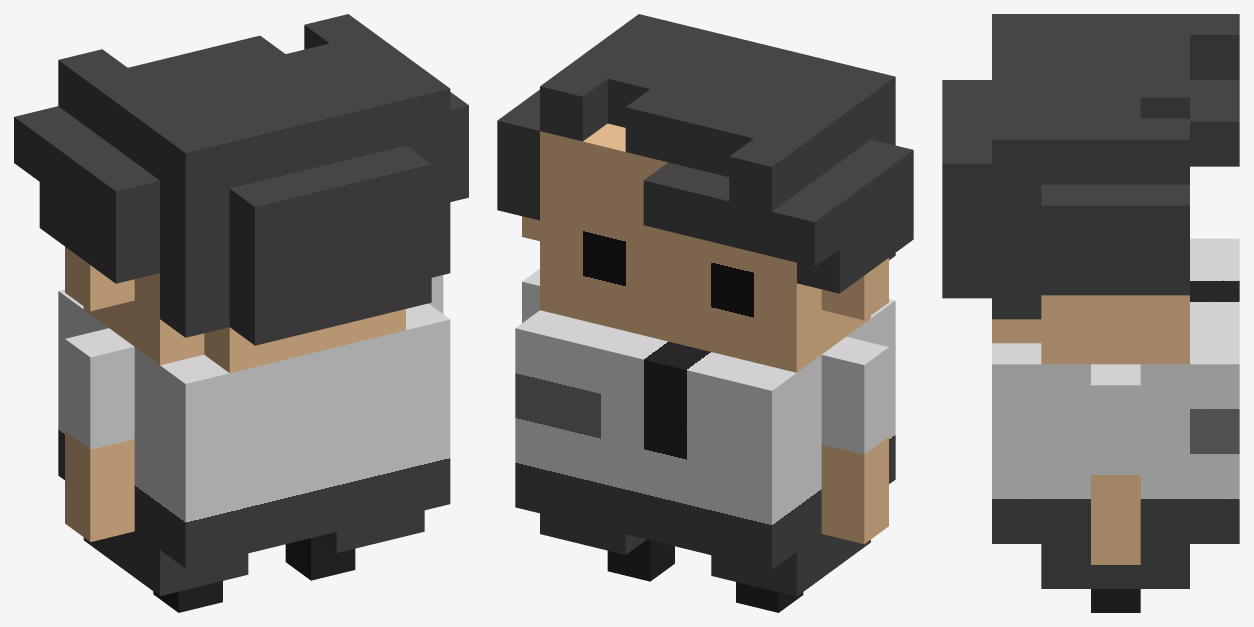
The model's file is chr_mission1.dae.
3 renders of one model, left to right at view 1: azimuth 30°, elevation 25°; view 2: azimuth 150°, elevation 25°; view 3: azimuth 270°, elevation 25°, orthographic. The views are drawn at different scales.
Parts seen in each view (by area): view 1: chr_mission1; view 2: chr_mission1; view 3: chr_mission1.
Boxes of the visible parts, <box> form: chr_mission1: <box>14,14,468,612</box>; chr_mission1: <box>497,14,913,612</box>; chr_mission1: <box>942,14,1239,612</box>.
Size of the model in its own units: 0.8 by 0.6 by 1.1.
